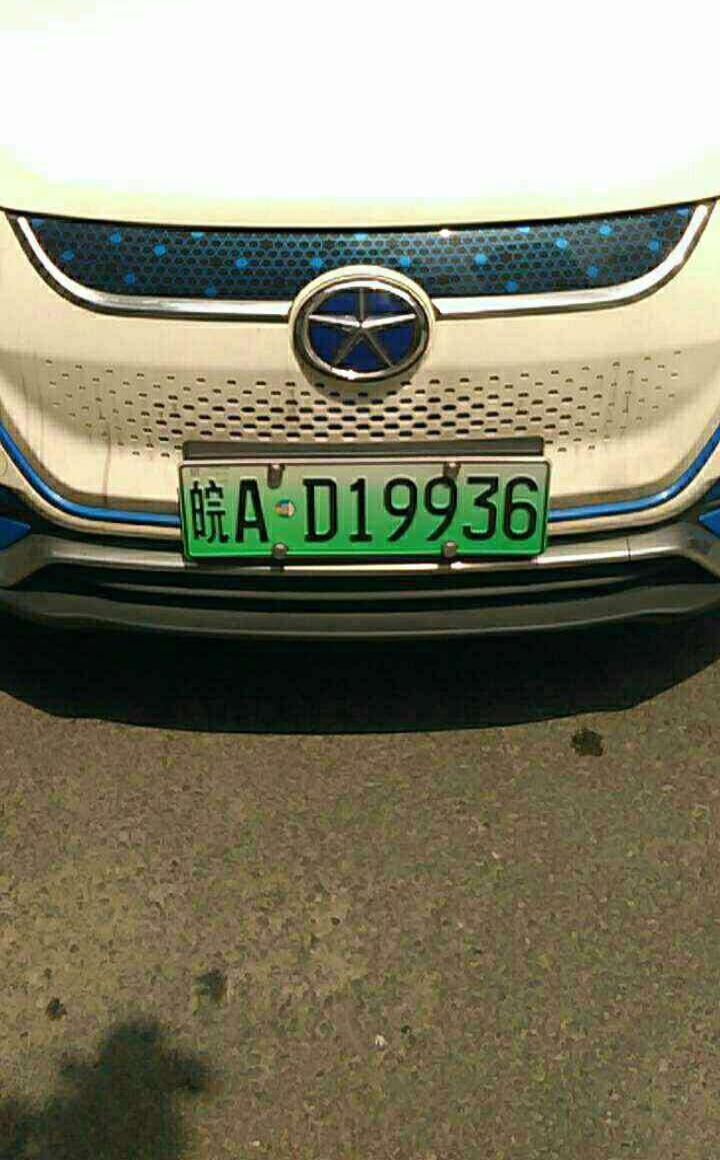car_id: (179, 462, 549, 558)
